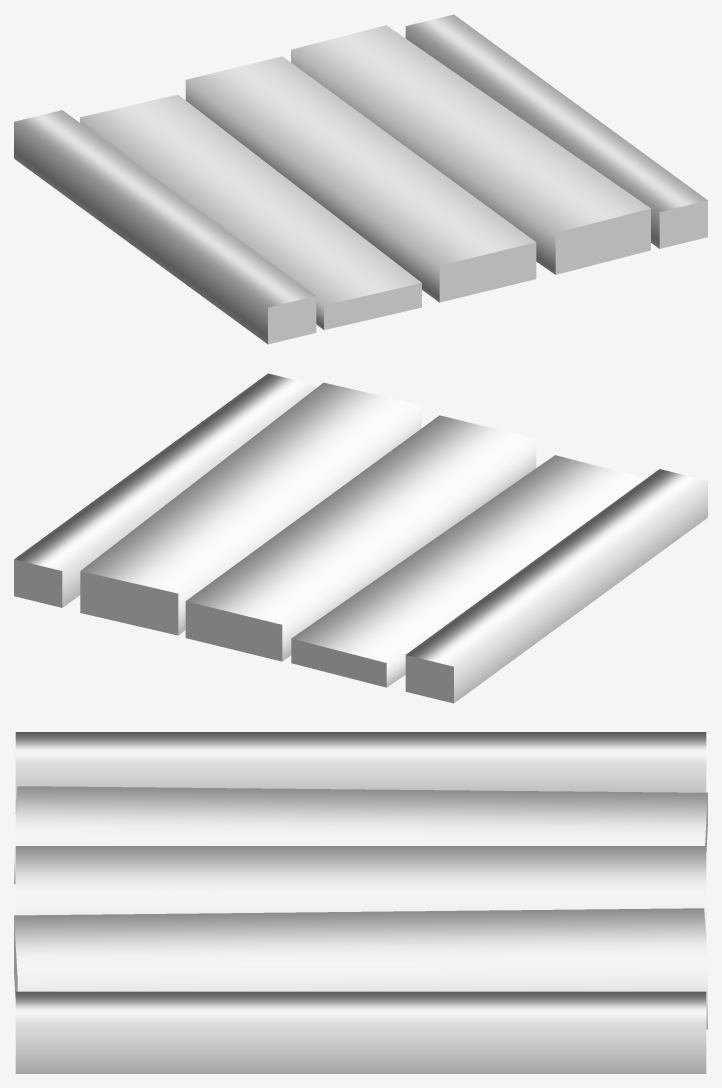
Rendered from platform.glb.
3 renders of one model, top to bottom at view 1: azimuth 30°, elevation 25°; view 2: azimuth 150°, elevation 25°; view 3: azimuth 270°, elevation 25°, orthographic. The views are drawn at different scales.
Parts seen in each view (by area): view 1: platform; view 2: platform; view 3: platform.
Part boxes in pixels (left/top/right/bottom): platform: left=14, top=14, right=707, bottom=344; platform: left=14, top=373, right=707, bottom=703; platform: left=14, top=732, right=707, bottom=1073.
Bounding box in the file's own units: 2.5 × 0.2279 × 2.51.
1 material, 1 textured.
